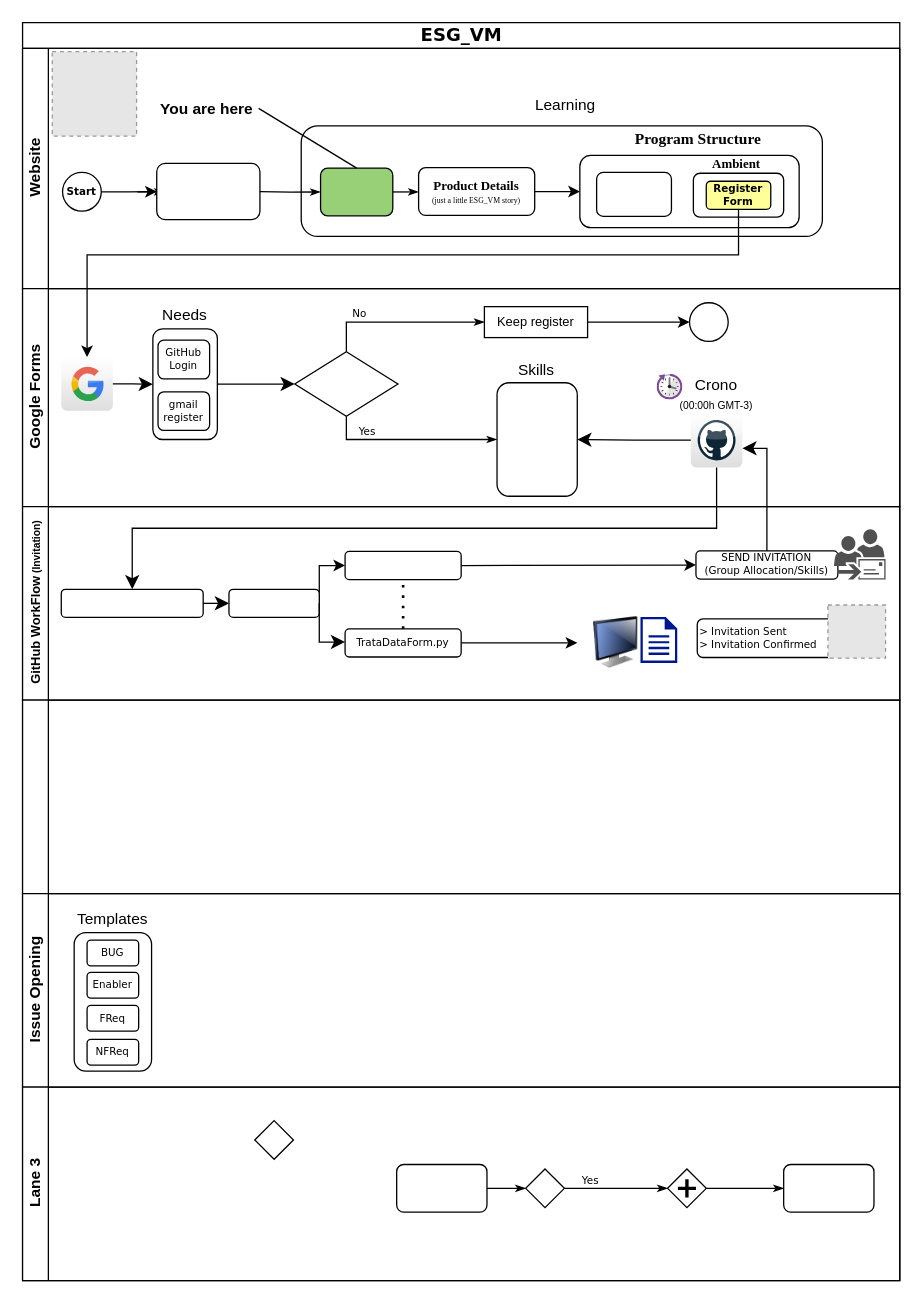
Image size: 922x1304. Some labels were removed from this diagram. Grey dashed boxes stand in for pictures. Here are the shapes that lost their labels. From the top down, the centre of each, then its label:
At (207,191): "🚧ESG Value Mining | ESG_VM (avalcorp.github.io)".
At (356,191): "Starting".
At (633,193): "Architecture".
At (708,321): "End".
At (345,383): "Engage Immediatly ?".
At (536,438): "> Arch&AI > DB > Ind > LP > Mgmt > OS > Sustain".
At (402,565): "TrataGitHub.py".
At (131,602): "Invitation_Scheduled.yml".
At (273,602): "Invitation.py".
